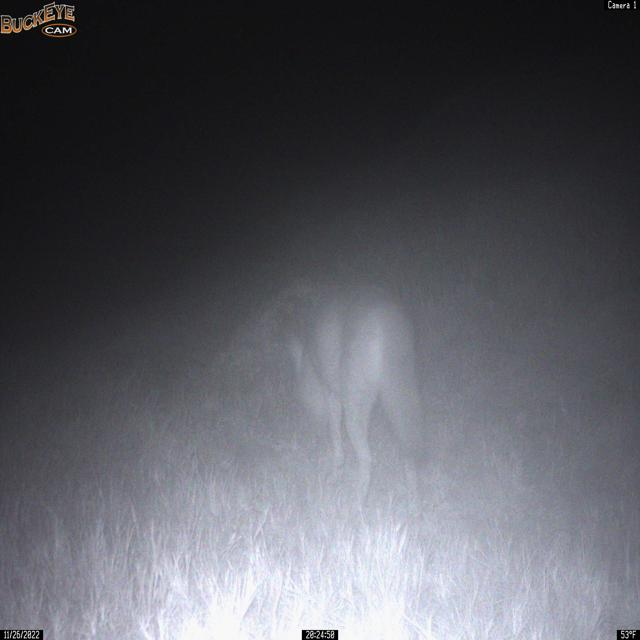coyote: (273, 275, 430, 520)
